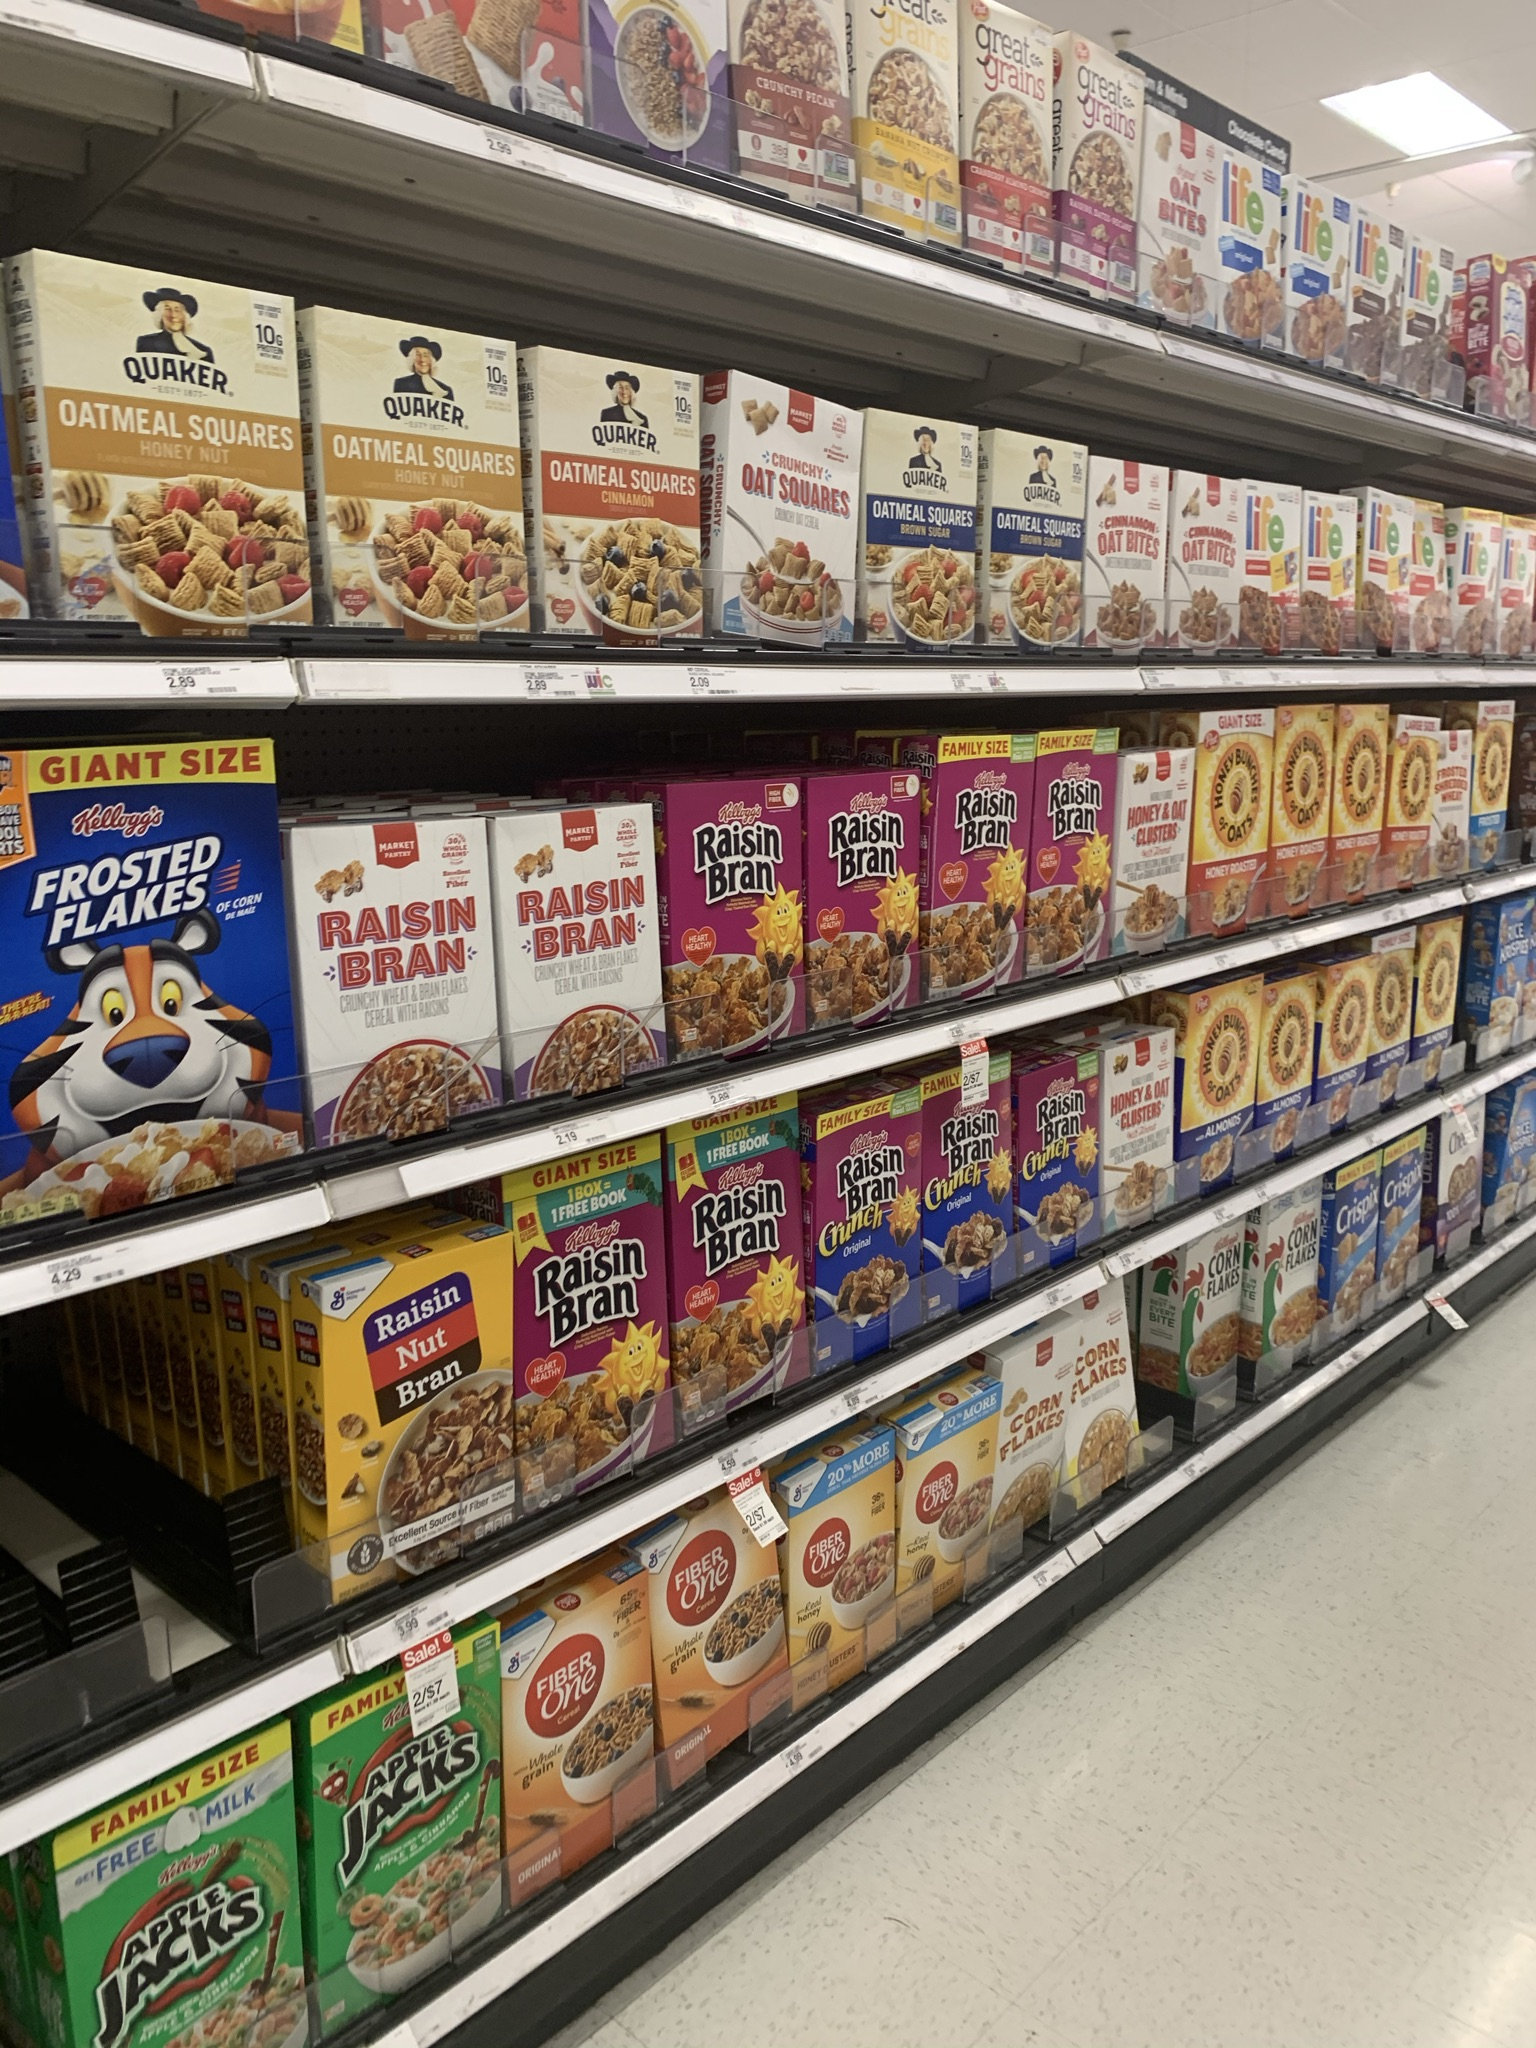cereal: (2, 760, 302, 1227), (44, 1722, 297, 2048), (295, 1684, 503, 2016), (1058, 1300, 1167, 1519), (995, 1338, 1076, 1580), (1170, 1247, 1265, 1443), (1196, 708, 1270, 947), (1267, 710, 1339, 918), (1183, 993, 1254, 1201), (1310, 1156, 1383, 1356), (1257, 1197, 1325, 1401), (1412, 918, 1484, 1098), (1375, 1142, 1431, 1342), (1379, 708, 1439, 893), (1338, 700, 1388, 906), (1326, 959, 1383, 1130), (1262, 989, 1317, 1159), (1480, 710, 1534, 877), (1425, 727, 1480, 887), (1375, 943, 1421, 1113)
